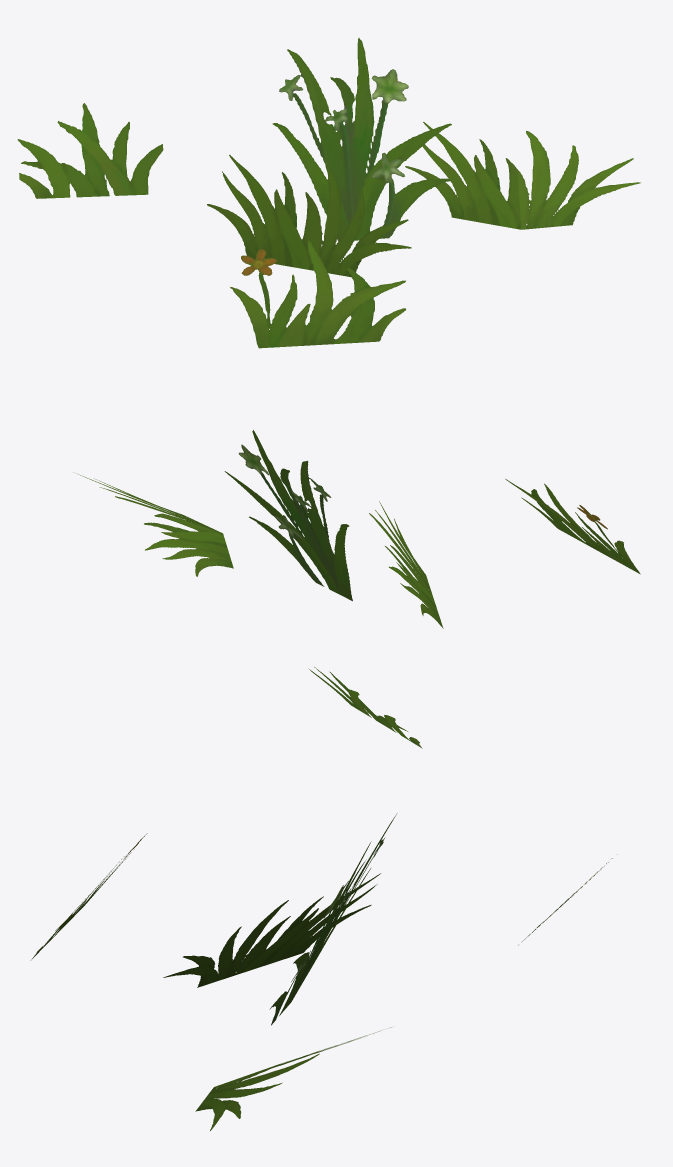
The model's file is grass_06.FBX.
3 renders of one model, top to bottom at view 1: azimuth 30°, elevation 25°; view 2: azimuth 150°, elevation 25°; view 3: azimuth 270°, elevation 25°, orthographic. The views are drawn at different scales.
Parts seen in each view (by area): view 1: 对象006; view 2: 对象006; view 3: 对象006.
Part boxes in pixels (x1,y1,x2,y2): 对象006: (17, 38, 640, 348); 对象006: (73, 430, 640, 748); 对象006: (30, 814, 612, 1130).
Bounding box in the file's own units: 1.59 × 0.5378 × 1.51.
1 material, 1 textured.
